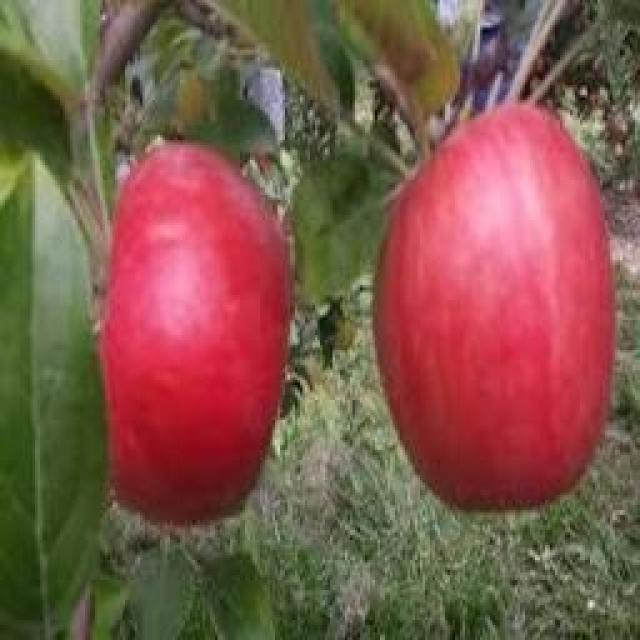apple: (373, 103, 615, 510), (100, 143, 290, 523)
